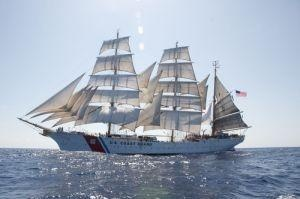fanchuan: (19, 27, 261, 152)
